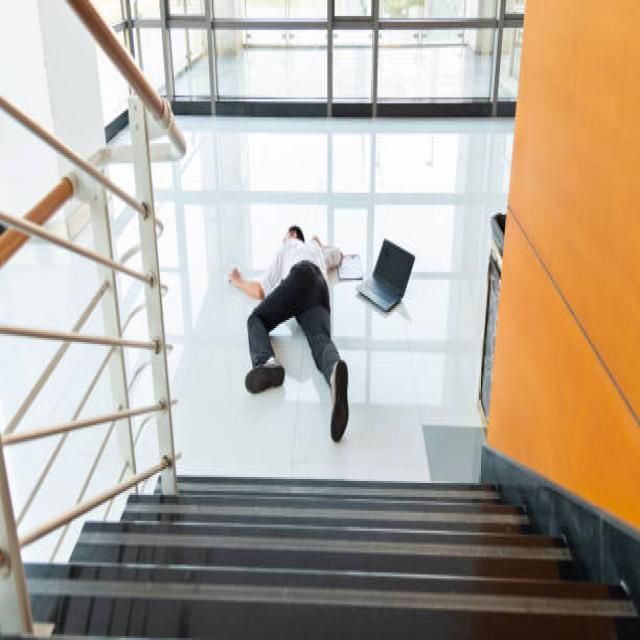lie: (238, 203, 359, 440)
